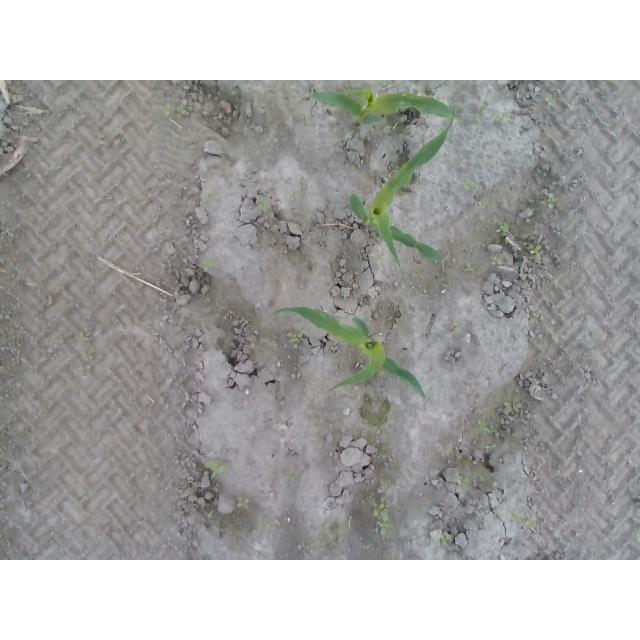Maize: (348, 104, 457, 269), (273, 305, 428, 403), (306, 86, 463, 126)
Weeds: (79, 327, 96, 376), (371, 501, 391, 537), (501, 398, 523, 413), (479, 420, 497, 434), (207, 462, 225, 475), (201, 257, 216, 272), (286, 332, 303, 345), (237, 496, 251, 510), (547, 193, 557, 210), (439, 533, 453, 545), (530, 244, 543, 256), (459, 476, 470, 490), (258, 199, 270, 209), (463, 211, 473, 222), (464, 263, 475, 273), (499, 223, 509, 233), (511, 511, 521, 521), (479, 199, 489, 209), (465, 181, 476, 190), (546, 96, 555, 105)
